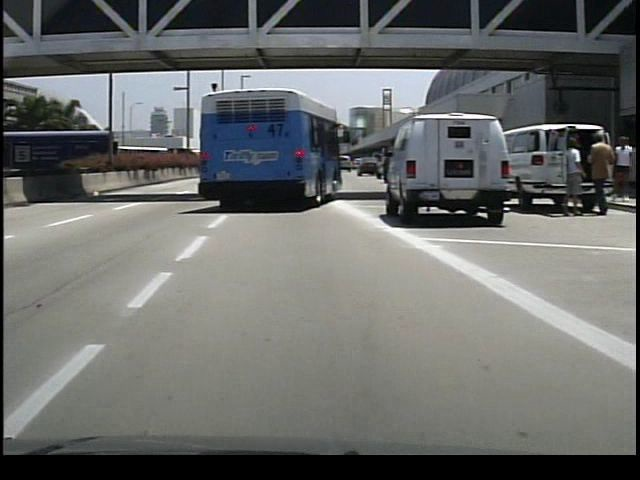person: (580, 130, 612, 219), (557, 134, 581, 218)
